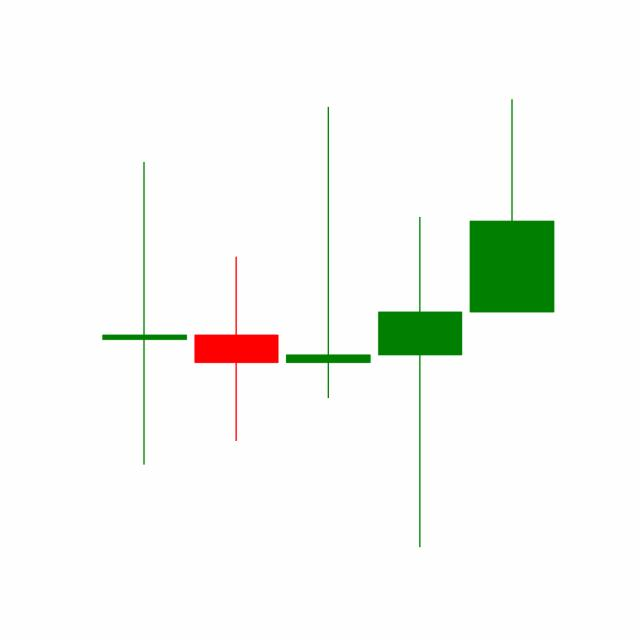Spinning Top: (373, 213, 467, 551)
